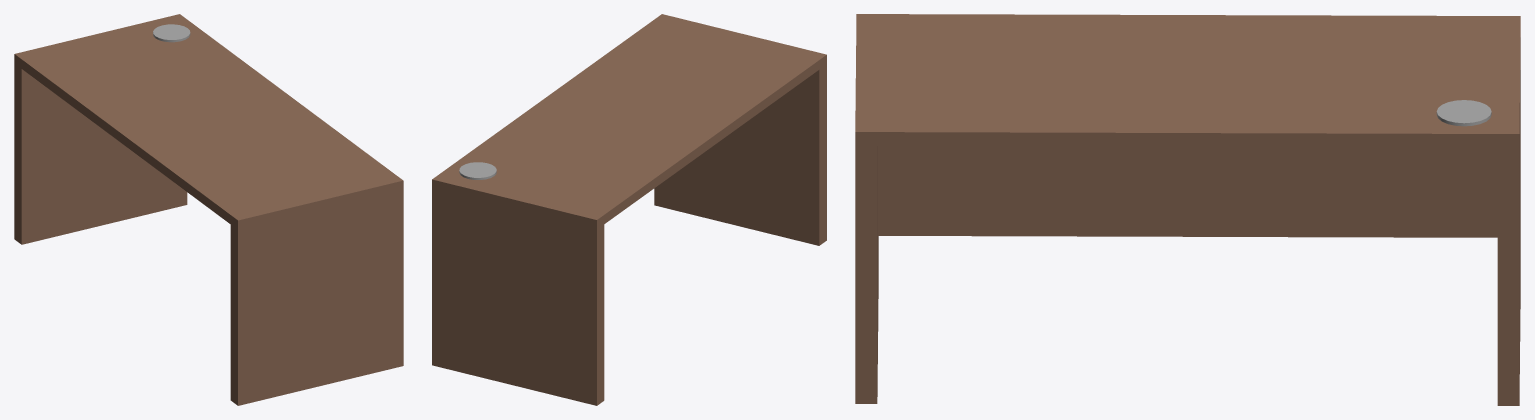
The model's file is Desk 2.fbx.
The picture shows the model from 3 angles, left to right: view 1: azimuth 30°, elevation 25°; view 2: azimuth 150°, elevation 25°; view 3: azimuth 270°, elevation 25°; orthographic projection. The views are drawn at different scales.
Visible parts, largest first — view 1: pCube3, pCylinder4; view 2: pCube3, pCylinder4; view 3: pCube3, pCylinder4.
Part boxes in pixels (x1=…): pCube3: x1=14, y1=14, x2=403, y2=405; pCylinder4: x1=153, y1=24, x2=190, y2=42; pCube3: x1=432, y1=14, x2=826, y2=405; pCylinder4: x1=459, y1=162, x2=496, y2=179; pCube3: x1=855, y1=14, x2=1520, y2=405; pCylinder4: x1=1436, y1=100, x2=1491, y2=126.
Bounding box in the file's own units: 5.38 × 5.74 × 12.6.
